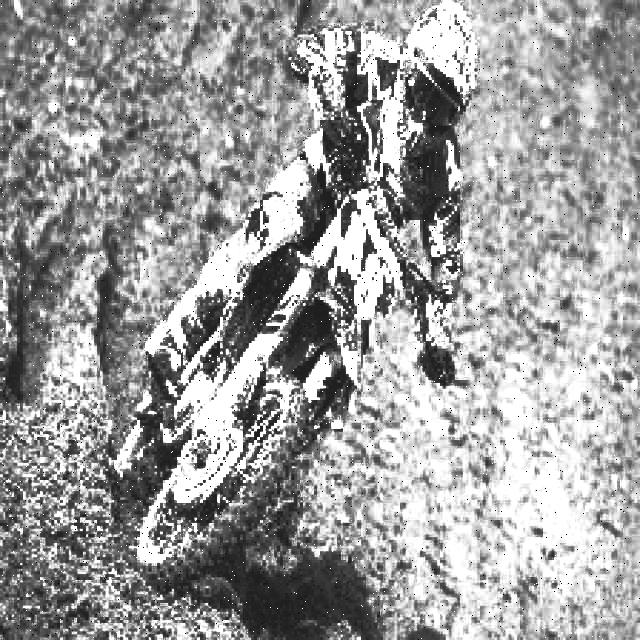Bike: (113, 148, 407, 558)
